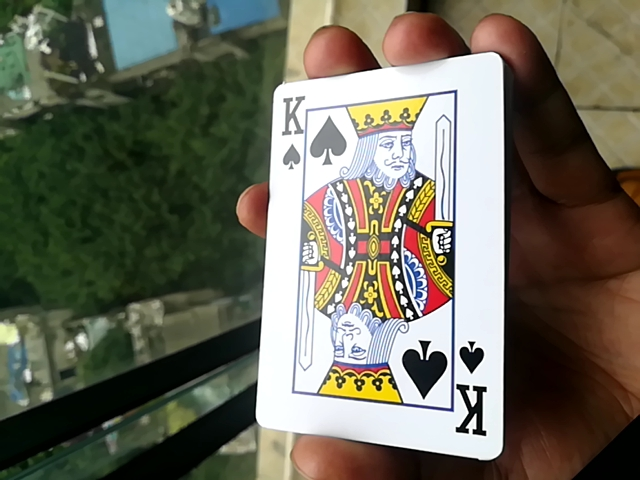ht k: (250, 61, 505, 459)
